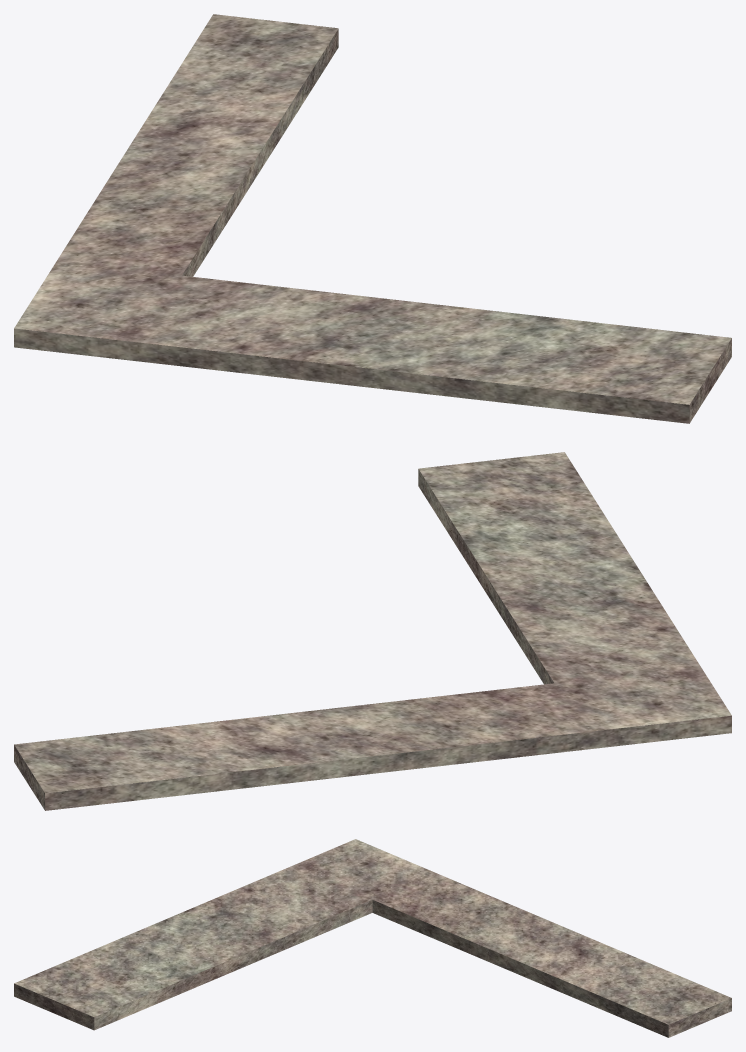
File: anglefloor.obj
The picture shows the model from 3 angles, top to bottom: view 1: azimuth 30°, elevation 25°; view 2: azimuth 150°, elevation 25°; view 3: azimuth 270°, elevation 25°; orthographic projection. The views are drawn at different scales.
Parts seen in each view (by area): view 1: Cube; view 2: Cube; view 3: Cube.
Part boxes in pixels (<box>): Cube: <box>14,14,731,423</box>; Cube: <box>14,452,731,810</box>; Cube: <box>14,839,731,1037</box>.
Bounding box in the file's own units: 67.23 × 2.21 × 110.
Materials: 1 (1 with a texture image).
